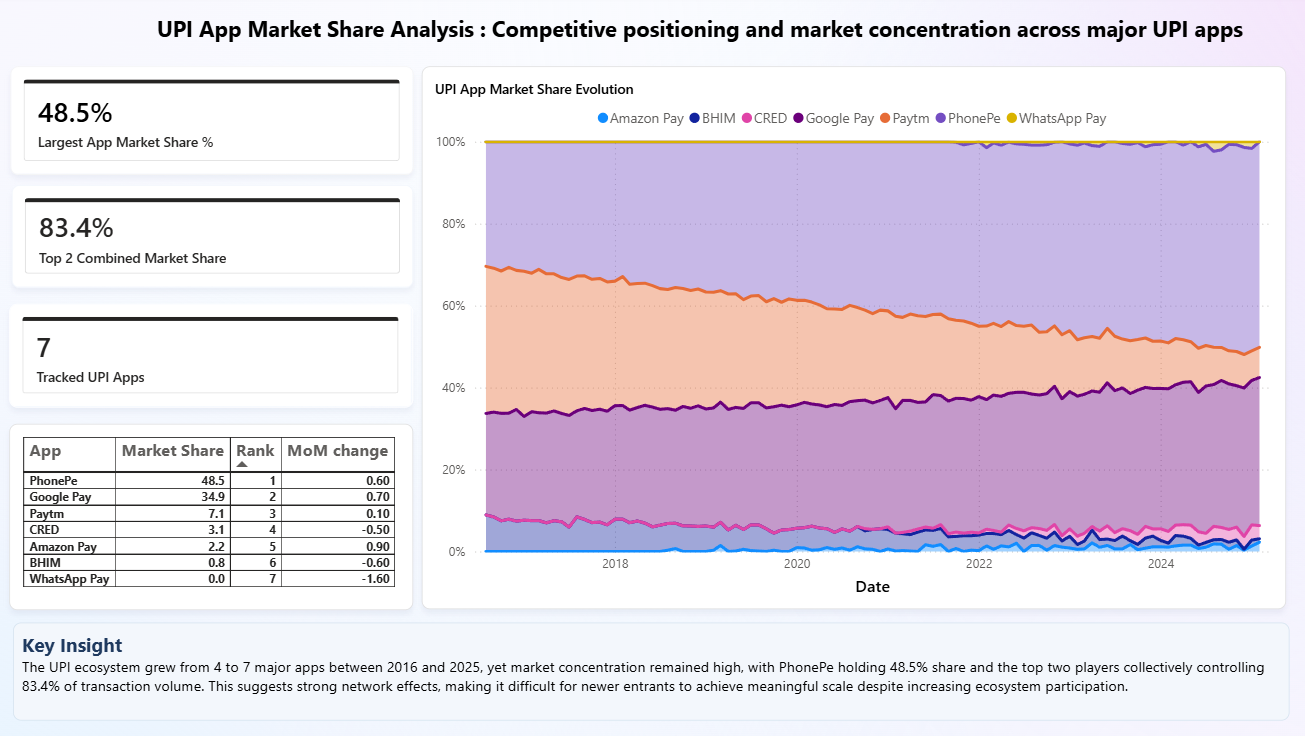

Layout of this report page (visuals, bound fields, positions):
{"tool":"powerbi","page":{"name":"Market Share Analysis","canvas":[1280,720],"ordinal":1},"visuals":[{"type":"textbox","box":[134.5,8.6,1104.2,44],"z":0},{"type":"cardVisual","fields":{"Data":["App Market Share.Market Leader Share %"]},"box":[12.1,64.2,394.2,106.3],"z":2000},{"type":"cardVisual","fields":{"Data":["App Market Share.Active Apps"]},"box":[11.5,297.4,394.9,101.3],"z":3000},{"type":"cardVisual","fields":{"Data":["App Market Share.Top 2 Share %"]},"box":[13.2,181.6,393.2,100.5],"z":4000},{"type":"hundredPercentStackedAreaChart","title":"UPI App Market Share Evolution","fields":{"Category":["App Market Share.Date"],"Y":["Avg(App Market Share.market_share_pct)"],"Series":["App Market Share.app_name"]},"box":[414.6,64.3,845.7,531.4],"z":5000},{"type":"tableEx","fields":{"Values":["App Market Share.app_name","Sum(App Market Share.market_share_pct)","Sum(App Market Share.app_rank)","App Market Share.MoM Share Change PP"]},"box":[11.5,414.1,394.9,182.1],"z":6000},{"type":"textbox","box":[14.7,609.3,1248.7,96],"z":7000}]}

Visuals, with their boxes in screenshot pixels (x1, y1, x2, y2), scaled from the page's 1280x720 canvas onto the 1305x736 screenshot:
textbox: (137,9,1263,54)
cardVisual - App Market Share.Market Leader Share %: (12,66,414,174)
cardVisual - App Market Share.Active Apps: (12,304,414,408)
cardVisual - App Market Share.Top 2 Share %: (13,186,414,288)
"UPI App Market Share Evolution" hundredPercentStackedAreaChart: (423,66,1285,609)
tableEx - App Market Share.app_name x Sum(App Market Share.market_share_pct): (12,423,414,609)
textbox: (15,623,1288,721)
